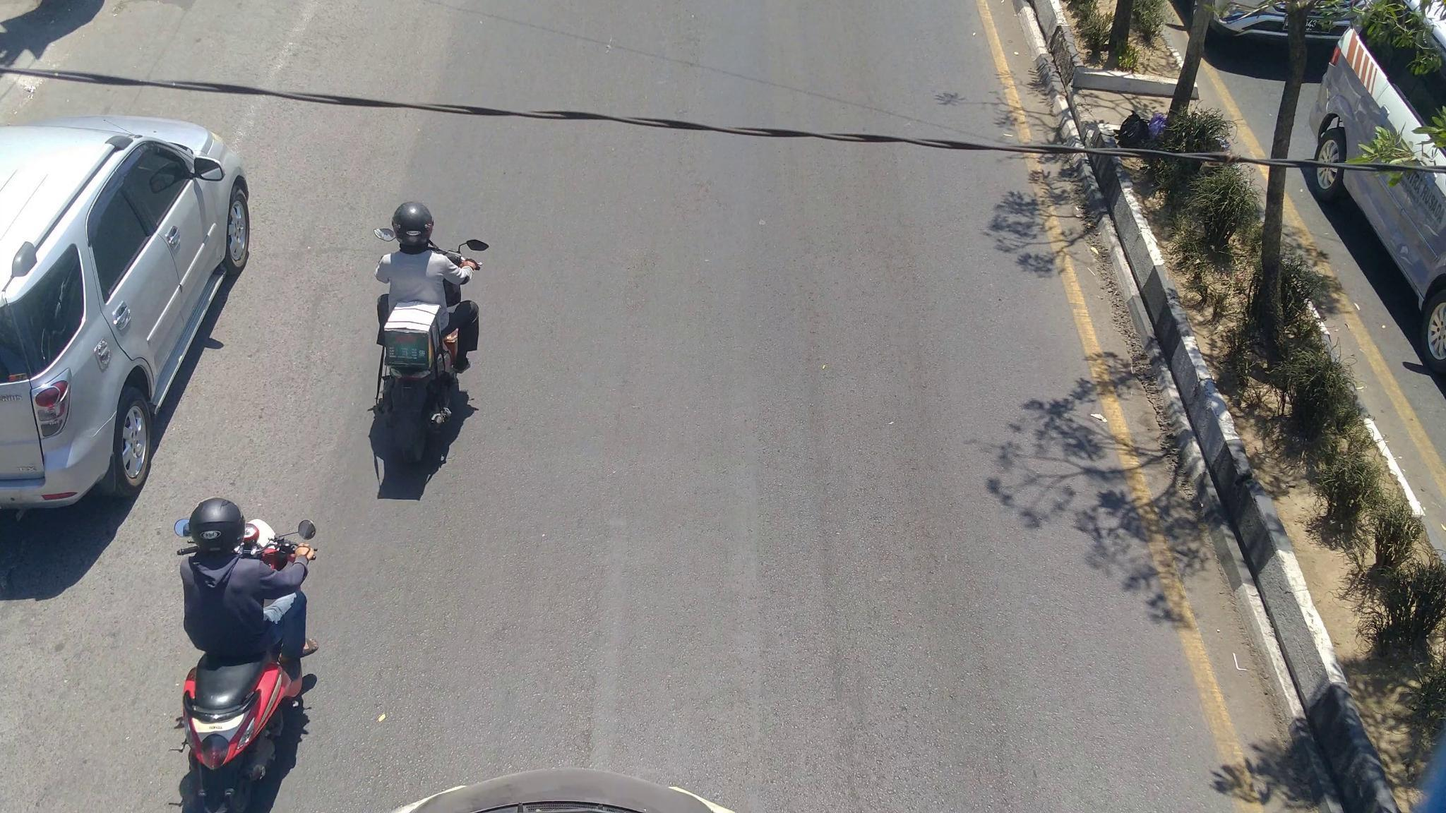Helmet: (184, 492, 250, 560), (386, 199, 441, 250)
bike: (165, 515, 321, 813), (375, 224, 489, 463)
rider: (179, 495, 321, 663), (375, 202, 484, 375)
